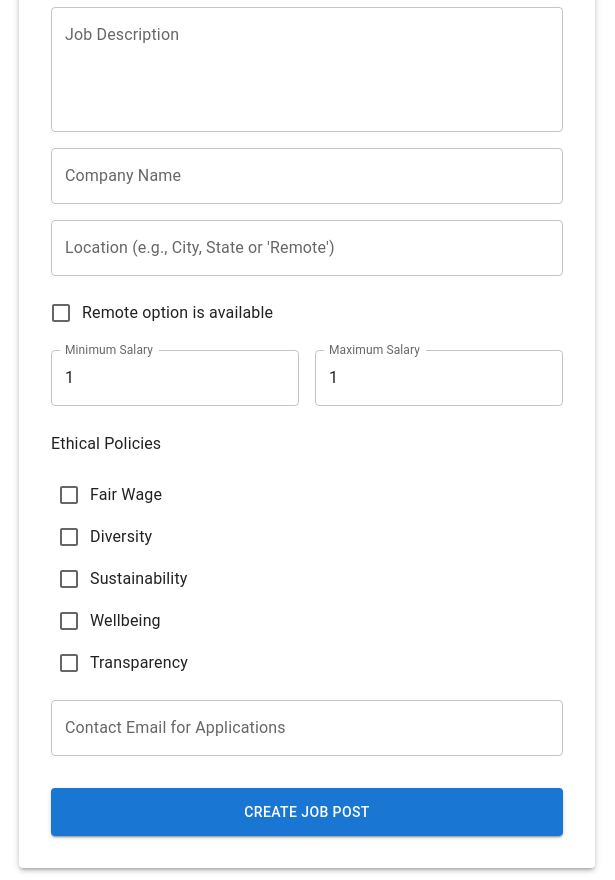
CreateJobPage › validates required fields on submission
(page scrolled)
Note: Try to submit without filling required fields
Click the button "Create Job Post": click(307, 812) top-left (51, 788), bottom-right (563, 836)
(page scrolled)
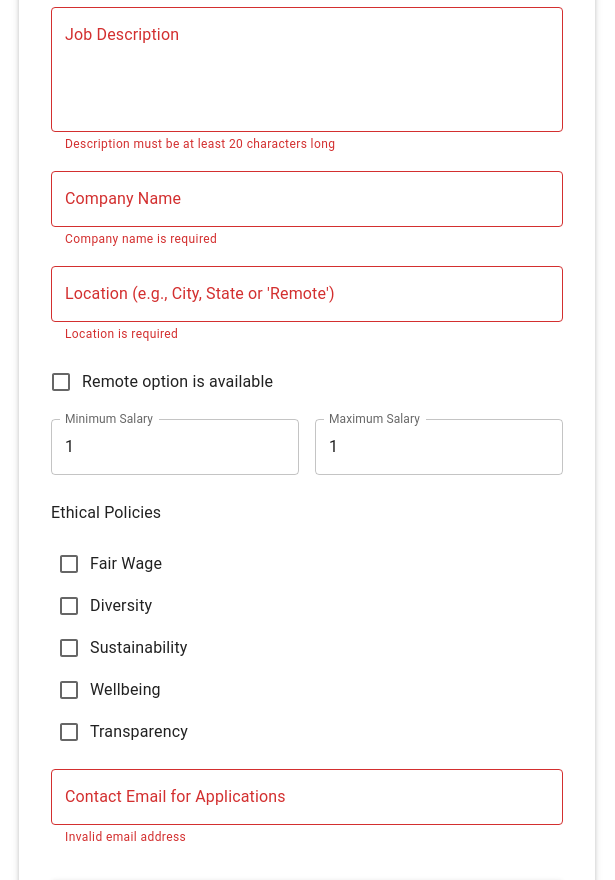
expect the text "Description must be at least 20 characters long" is shown: met, box top-left (65, 137), bottom-right (335, 151)
expect the text "Company name is required" is shown: met, box top-left (65, 232), bottom-right (217, 246)
expect the text "Location is required" is shown: met, box top-left (65, 327), bottom-right (178, 341)
